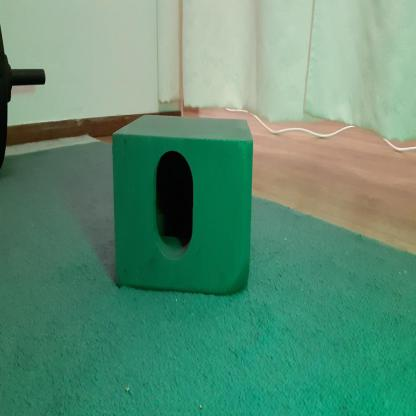CornerCasting: (108, 114, 255, 298)
